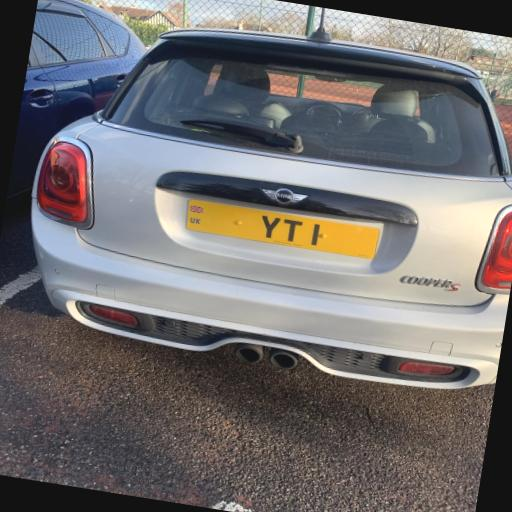numberplates: (187, 200, 379, 258)
